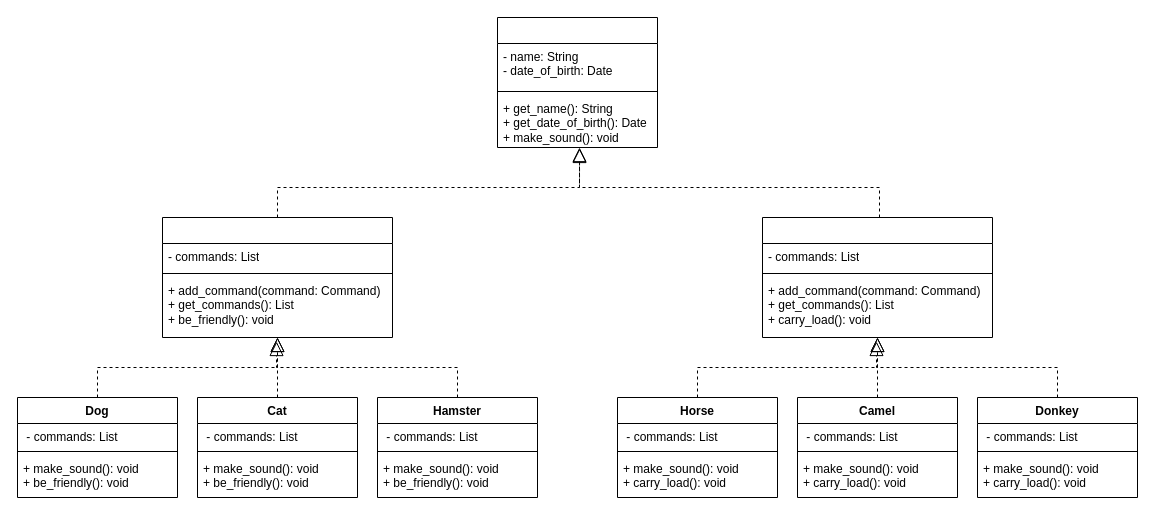
Image size: 1155x518. Some labels were removed from this diagram. Here are the shapes that lost their labels. From the top down, the box of each, then its label:
(496, 16, 658, 148): Animal
(162, 216, 392, 338): Pet
(762, 216, 992, 338): Pack
